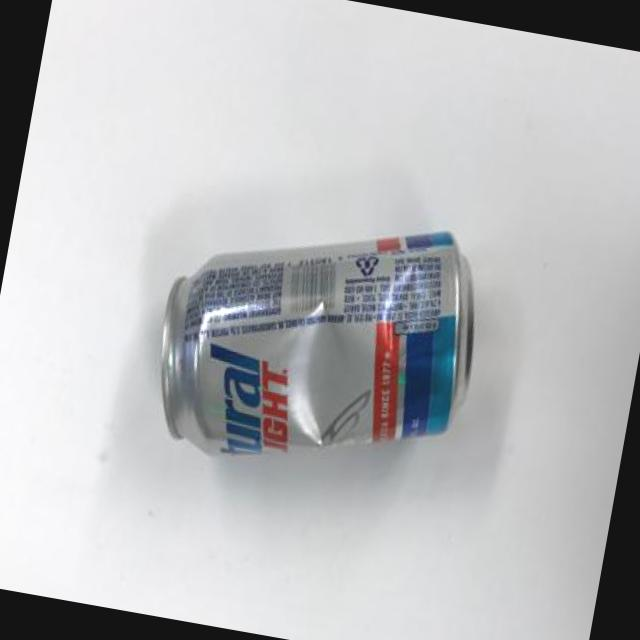kim_loai: (162, 232, 475, 454)
